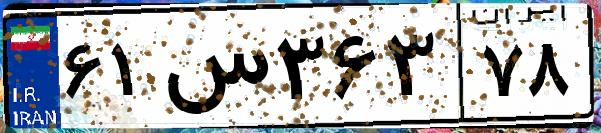1: (110, 28, 158, 98)
3: (270, 28, 330, 110), (385, 28, 445, 110)
6: (330, 28, 385, 110), (57, 26, 110, 100)
7: (475, 38, 525, 113)
8: (525, 38, 570, 115)
س: (158, 20, 270, 120)
